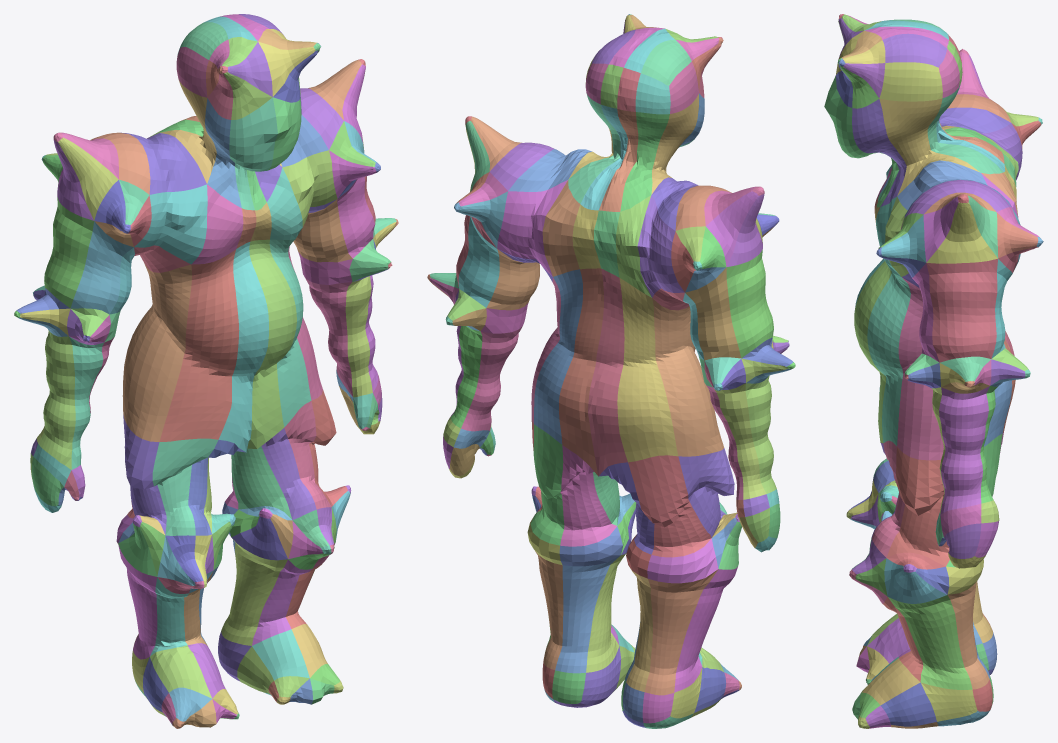
The model's file is 13_warrior_output.obj.
The picture shows the model from 3 angles, left to right: view 1: azimuth 30°, elevation 25°; view 2: azimuth 150°, elevation 25°; view 3: azimuth 270°, elevation 25°; orthographic projection. The views are drawn at different scales.
Bounding box in the file's own units: 0.5297 × 0.8997 × 0.2674.
